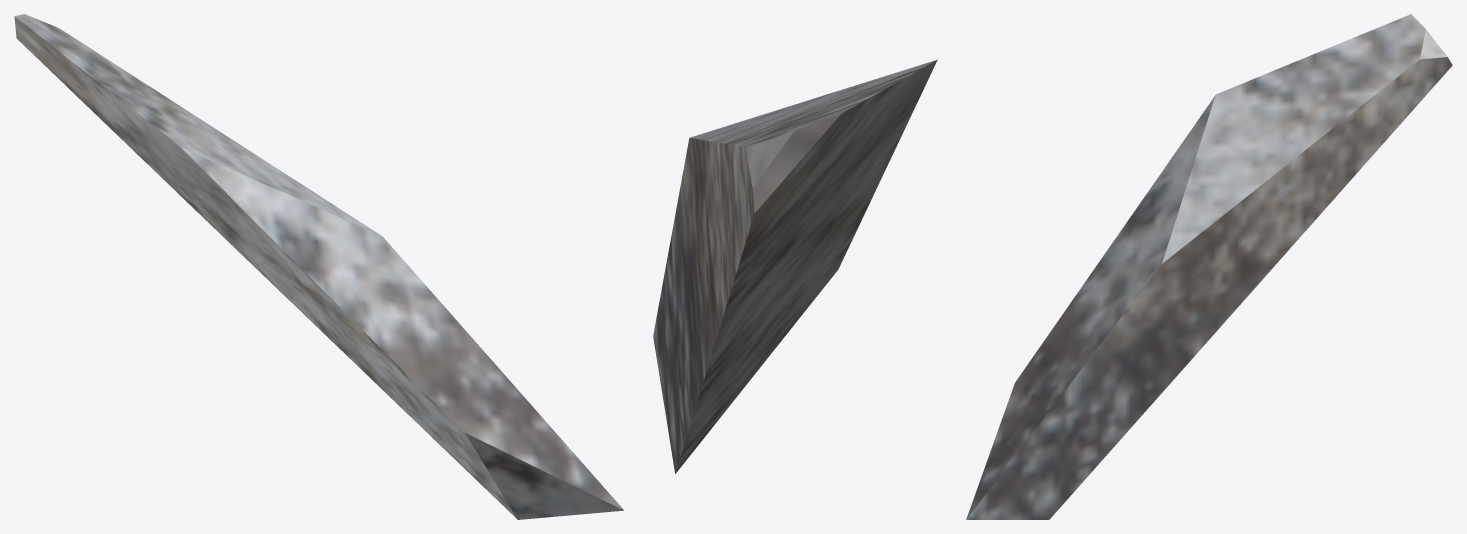
File: Asteroid_Large_001_02_006_03_017.fbx
3 views of the same model, side by side, from view 1: azimuth 30°, elevation 25°; view 2: azimuth 150°, elevation 25°; view 3: azimuth 270°, elevation 25° (orthographic). The views are drawn at different scales.
Visible parts, largest first — view 1: Asteroid_Large_001_02_006_03_017; view 2: Asteroid_Large_001_02_006_03_017; view 3: Asteroid_Large_001_02_006_03_017.
Boxes of the visible parts, x1=… form: Asteroid_Large_001_02_006_03_017: x1=14, y1=14, x2=623, y2=519; Asteroid_Large_001_02_006_03_017: x1=653, y1=59, x2=937, y2=473; Asteroid_Large_001_02_006_03_017: x1=966, y1=14, x2=1452, y2=519.
Bounding box in the file's own units: 2.37 × 2.69 × 3.15.
